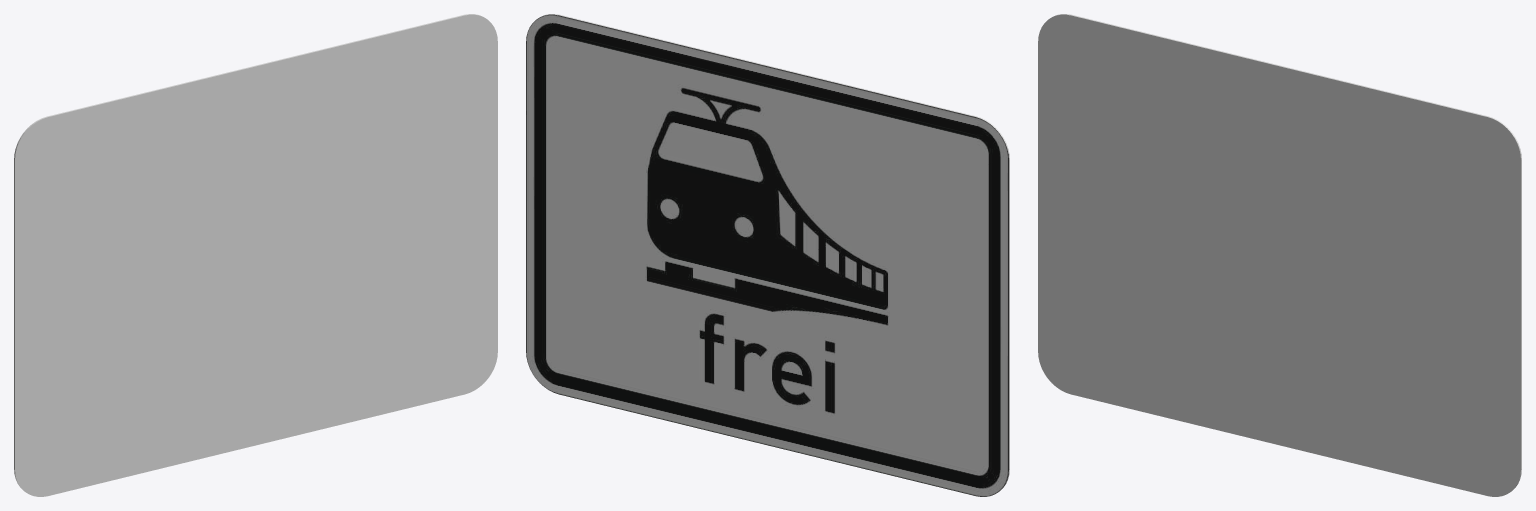
3 views of the same model, side by side, from view 1: azimuth 30°, elevation 25°; view 2: azimuth 150°, elevation 25°; view 3: azimuth 330°, elevation 25° (orthographic).
Visible parts, largest first — view 1: Plane; view 2: Plane; view 3: Plane.
Boxes of the visible parts, box(x1,y1,x2,y2) form: Plane: box(14, 14, 497, 496); Plane: box(526, 14, 1009, 496); Plane: box(1038, 14, 1521, 496).
Size of the model in its own units: 0.6 by 0.45 by 0.002.
Materials: 2 (1 with a texture image).
